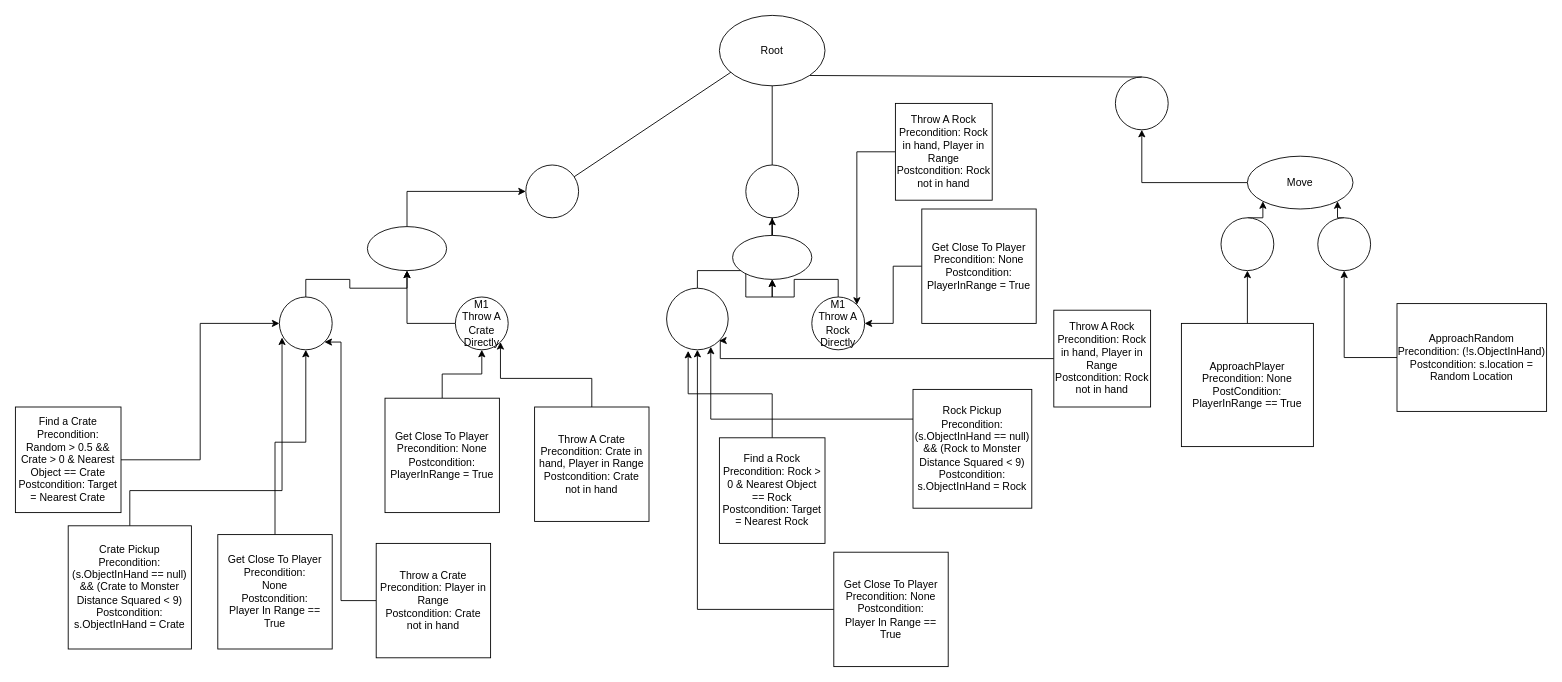
Image size: 1562x682. Some labels were removed from this diagram. The box of each missing label's shape, as (x1, y1, x2, y2) in pixels:
Attack using crate: (367, 226, 447, 271)
Attack using Rock: (732, 235, 812, 279)
M0: (1220, 217, 1274, 271)
M0 Find A Crate And Throw: (279, 296, 332, 350)
M0 Find A Rock And Throw: (666, 287, 728, 350)
M1: (1317, 217, 1371, 271)
Method: Attack Using Crate: (525, 164, 579, 218)
Method: Attack Using Rock: (745, 164, 799, 218)
Method: Idle: (1115, 76, 1168, 130)
